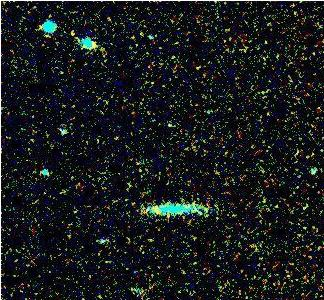star: (59, 15, 89, 45)
